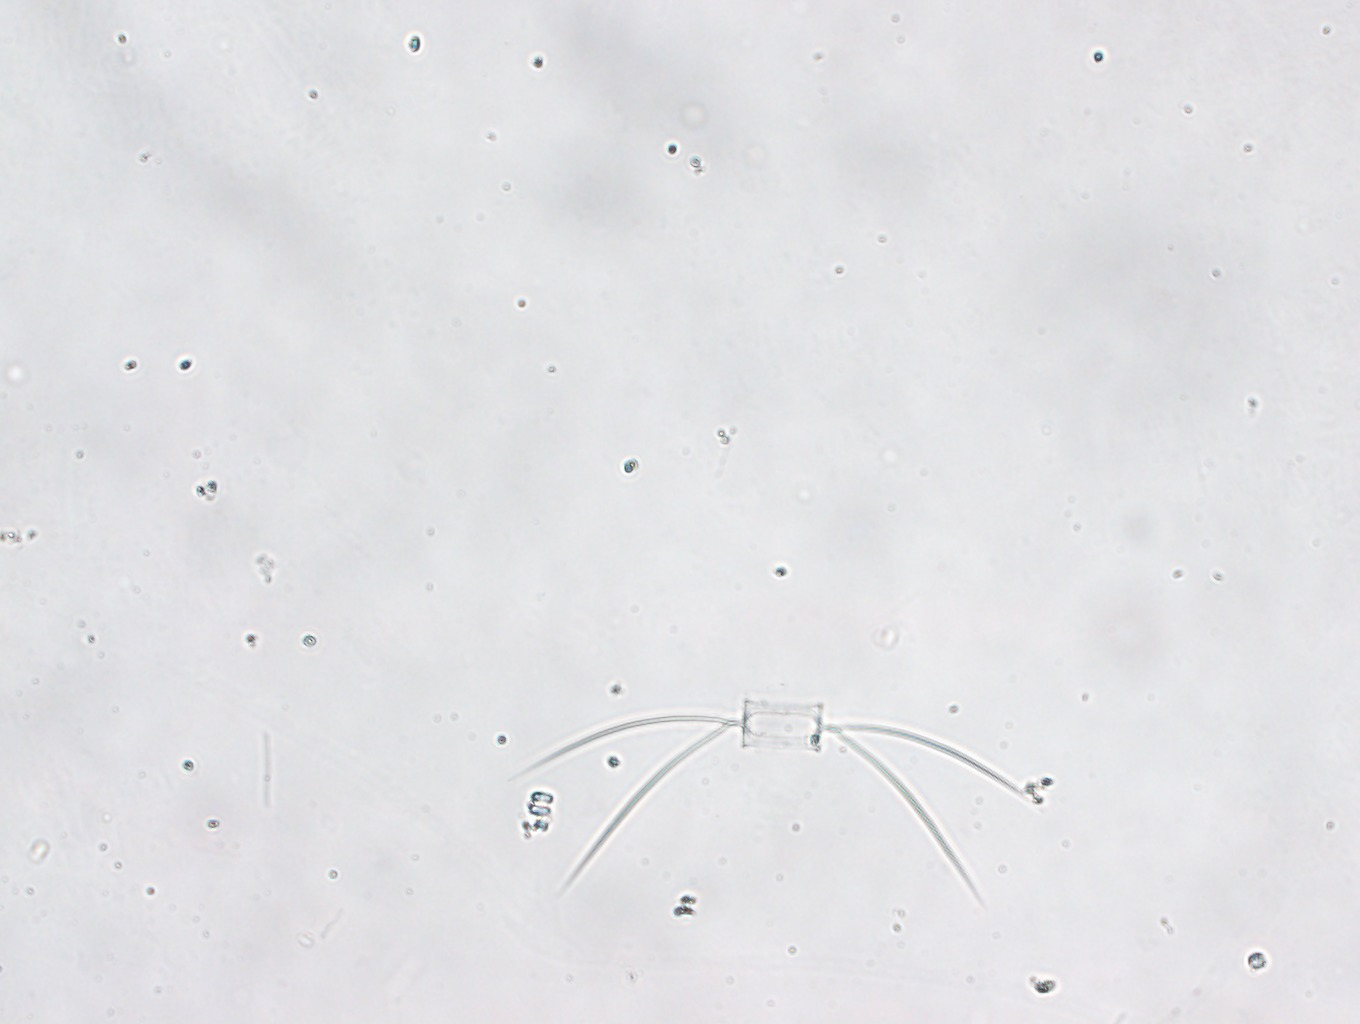chaetoceros: (511, 700, 1023, 905)
